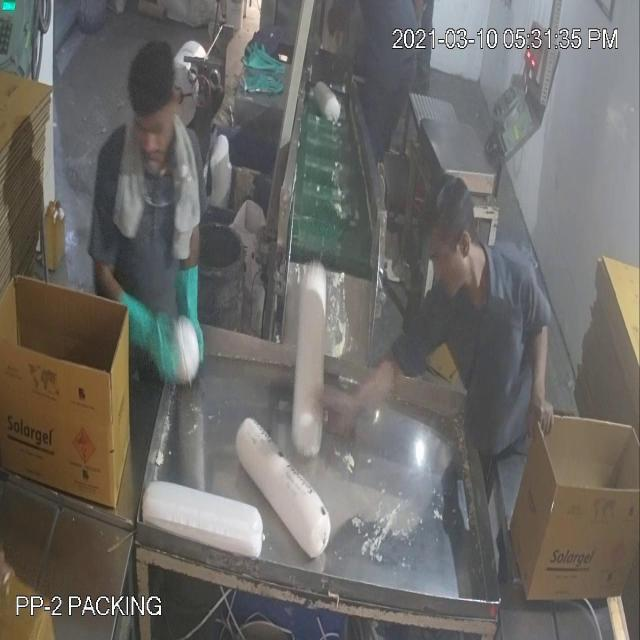Gloves: (40, 115, 537, 390)
